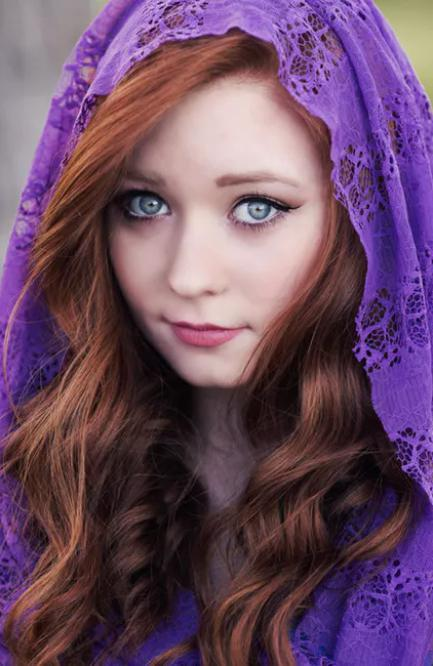face: (104, 77, 329, 389)
